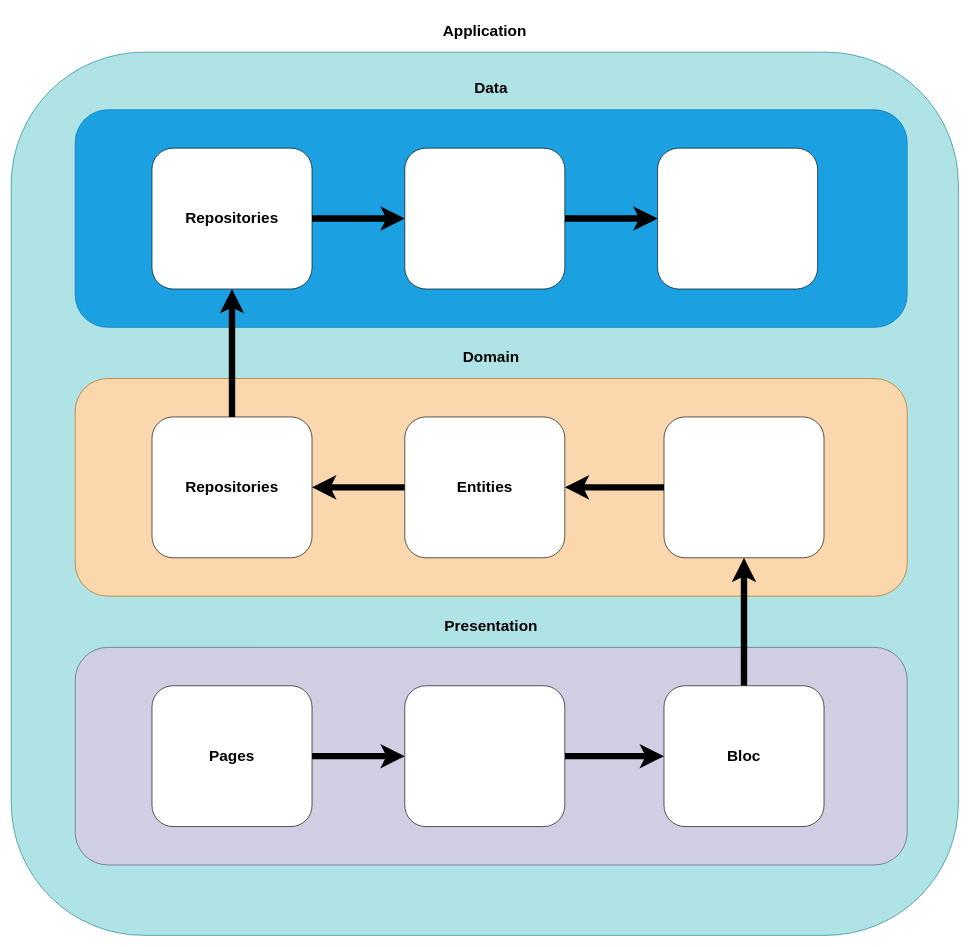
Image size: 970x947. Some labels were removed from this diagram. The centre of each missing label's shape, as x and y in pixels:
"Datasources" belongs at (737,218).
"Models" belongs at (484,218).
"Usecases" belongs at (743,487).
"Widgets" belongs at (484,756).
